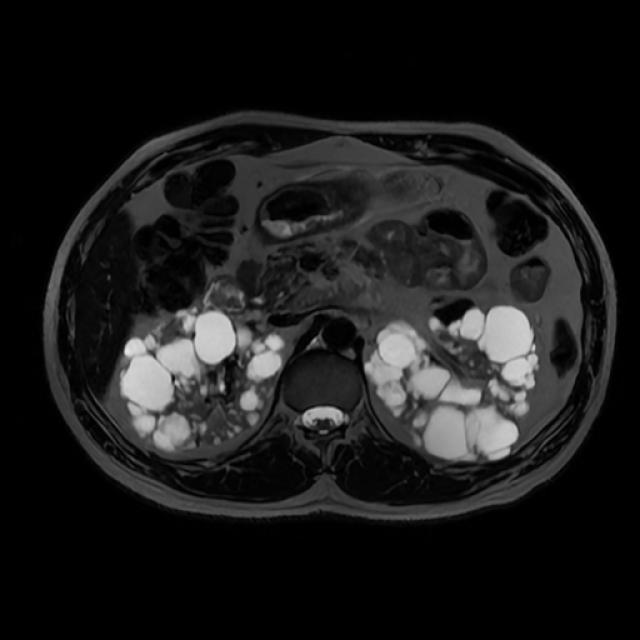sag: (120, 304, 280, 449)
sol: (368, 309, 541, 465)
